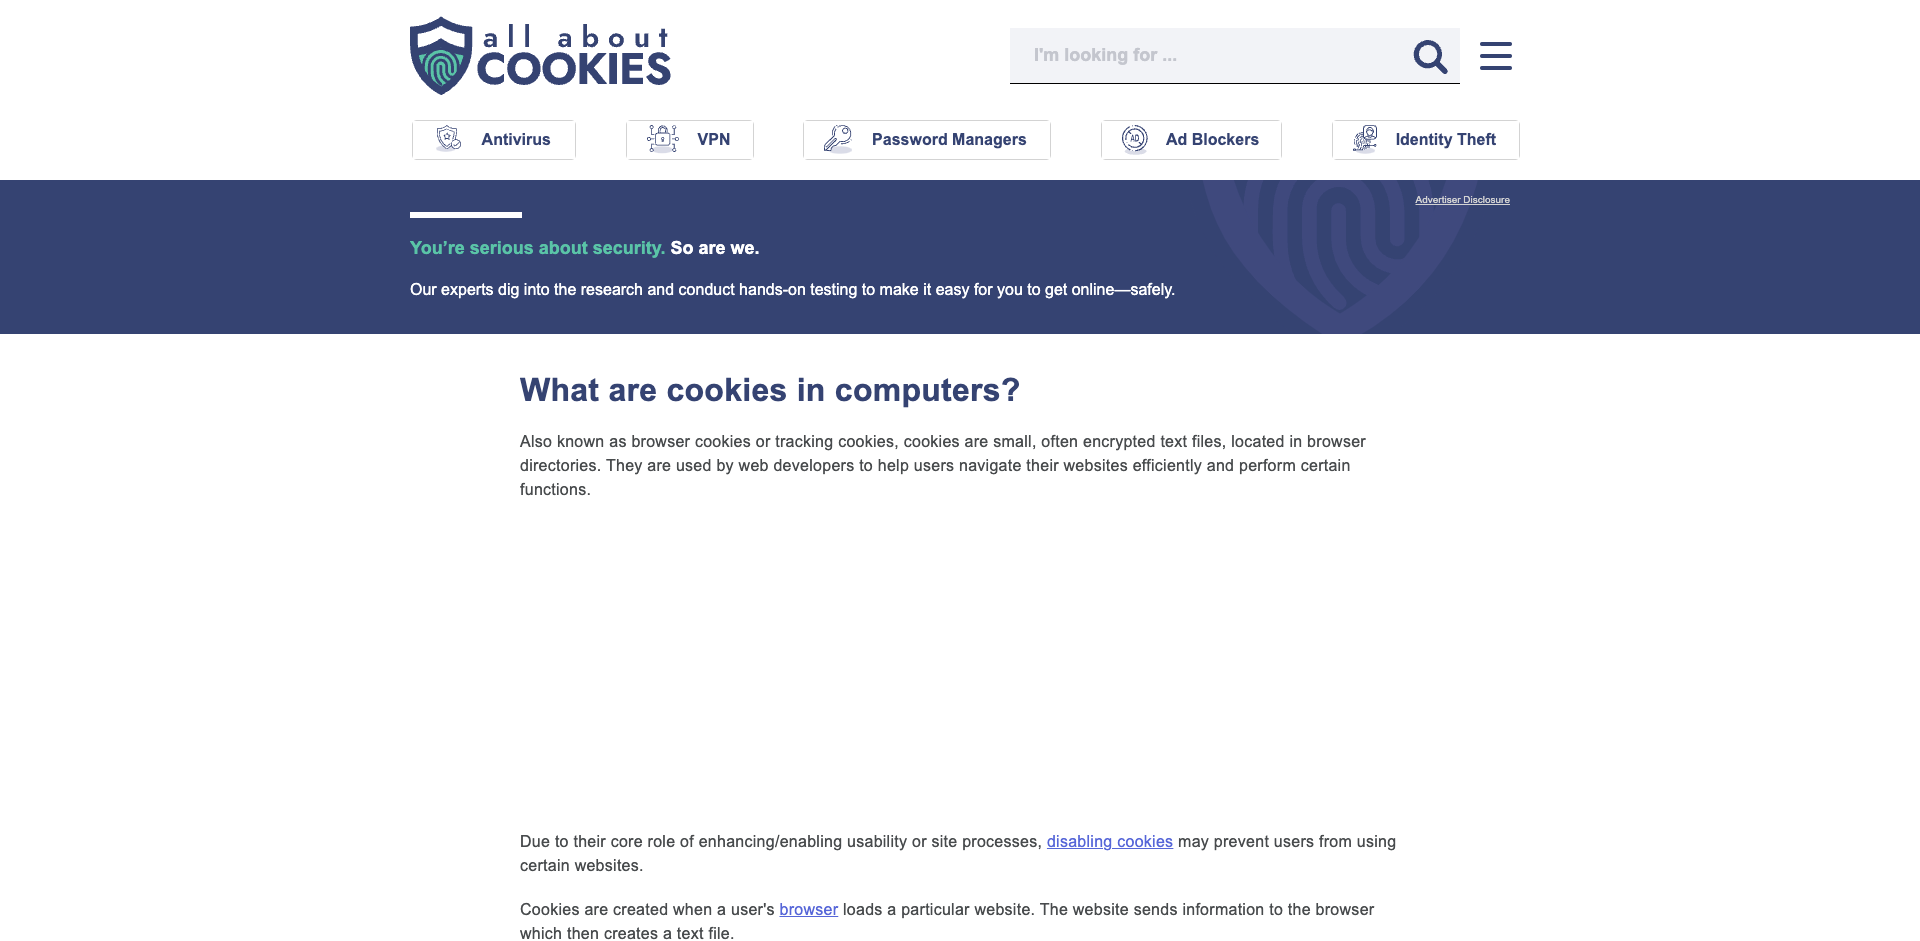input: (1010, 28, 1460, 83)
link: (410, 16, 671, 96), (804, 121, 1051, 159), (1332, 121, 1520, 159), (1102, 121, 1281, 159), (413, 121, 576, 159), (627, 121, 753, 159), (1047, 833, 1173, 850), (780, 901, 839, 918)
